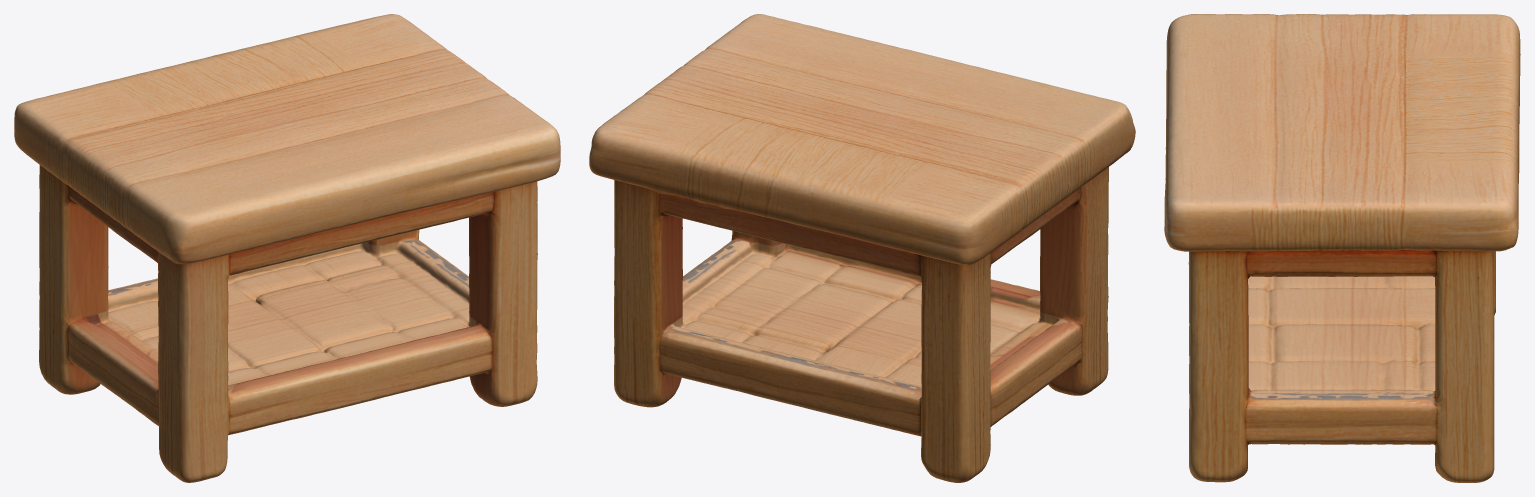
The model's file is Online_Table.fbx.
3 views of the same model, side by side, from view 1: azimuth 30°, elevation 25°; view 2: azimuth 150°, elevation 25°; view 3: azimuth 270°, elevation 25° (orthographic). The views are drawn at different scales.
Visible parts, largest first — view 1: texture_mapping; view 2: texture_mapping; view 3: texture_mapping.
Boxes of the visible parts, left/top/right/bottom form: texture_mapping: left=14, top=14, right=560, bottom=482; texture_mapping: left=589, top=14, right=1135, bottom=482; texture_mapping: left=1164, top=14, right=1520, bottom=482.
Bounding box in the file's own units: 0.9993 × 0.7652 × 0.6866.
1 material, 1 textured.
